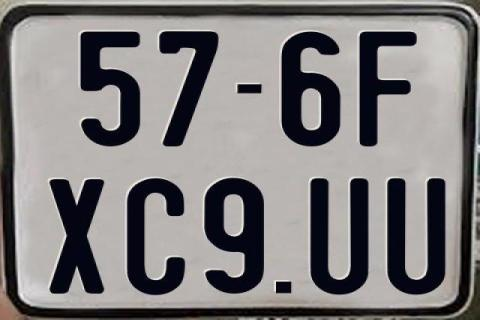0: (78, 29, 142, 150), (204, 176, 266, 294), (282, 31, 344, 148), (156, 30, 217, 146)
C: (125, 177, 187, 295)
F: (356, 31, 418, 148)
U: (385, 176, 446, 296), (307, 178, 366, 296)
X: (46, 178, 106, 292)
